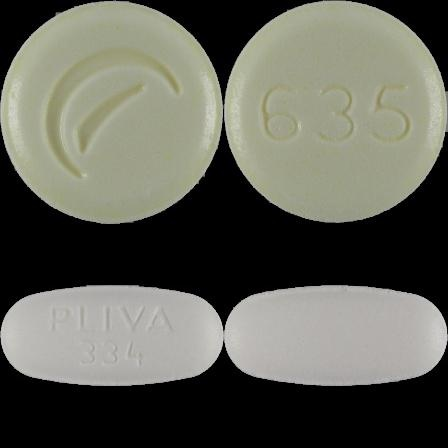0615-7690: (0, 0, 224, 224)
